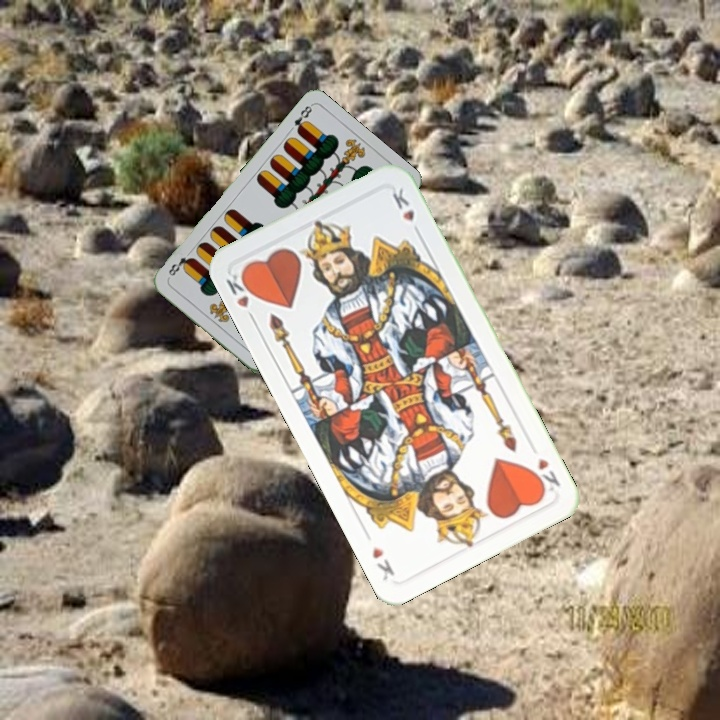E8: (290, 101, 315, 136)
HK: (222, 267, 259, 311), (528, 454, 563, 497)
